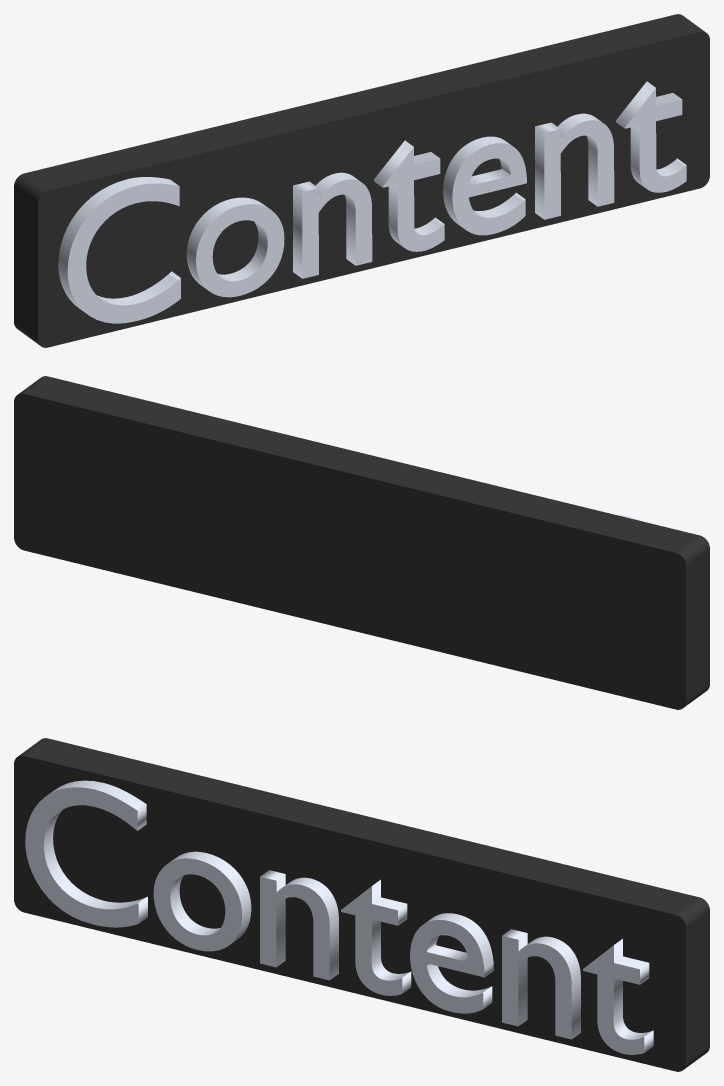
Rendered from content.gltf.
3 views of the same model, one above another, from view 1: azimuth 30°, elevation 25°; view 2: azimuth 150°, elevation 25°; view 3: azimuth 330°, elevation 25° (orthographic).
Parts seen in each view (by area): view 1: Cube, text; view 2: Cube; view 3: Cube, text.
Boxes of the visible parts, x1,y1,x2,y2 form: Cube: (14, 14, 709, 347); text: (58, 81, 686, 323); Cube: (14, 376, 709, 709); Cube: (14, 738, 709, 1071); text: (25, 780, 653, 1054).
Bounding box in the file's own units: 3.64 × 0.8117 × 0.3119.
